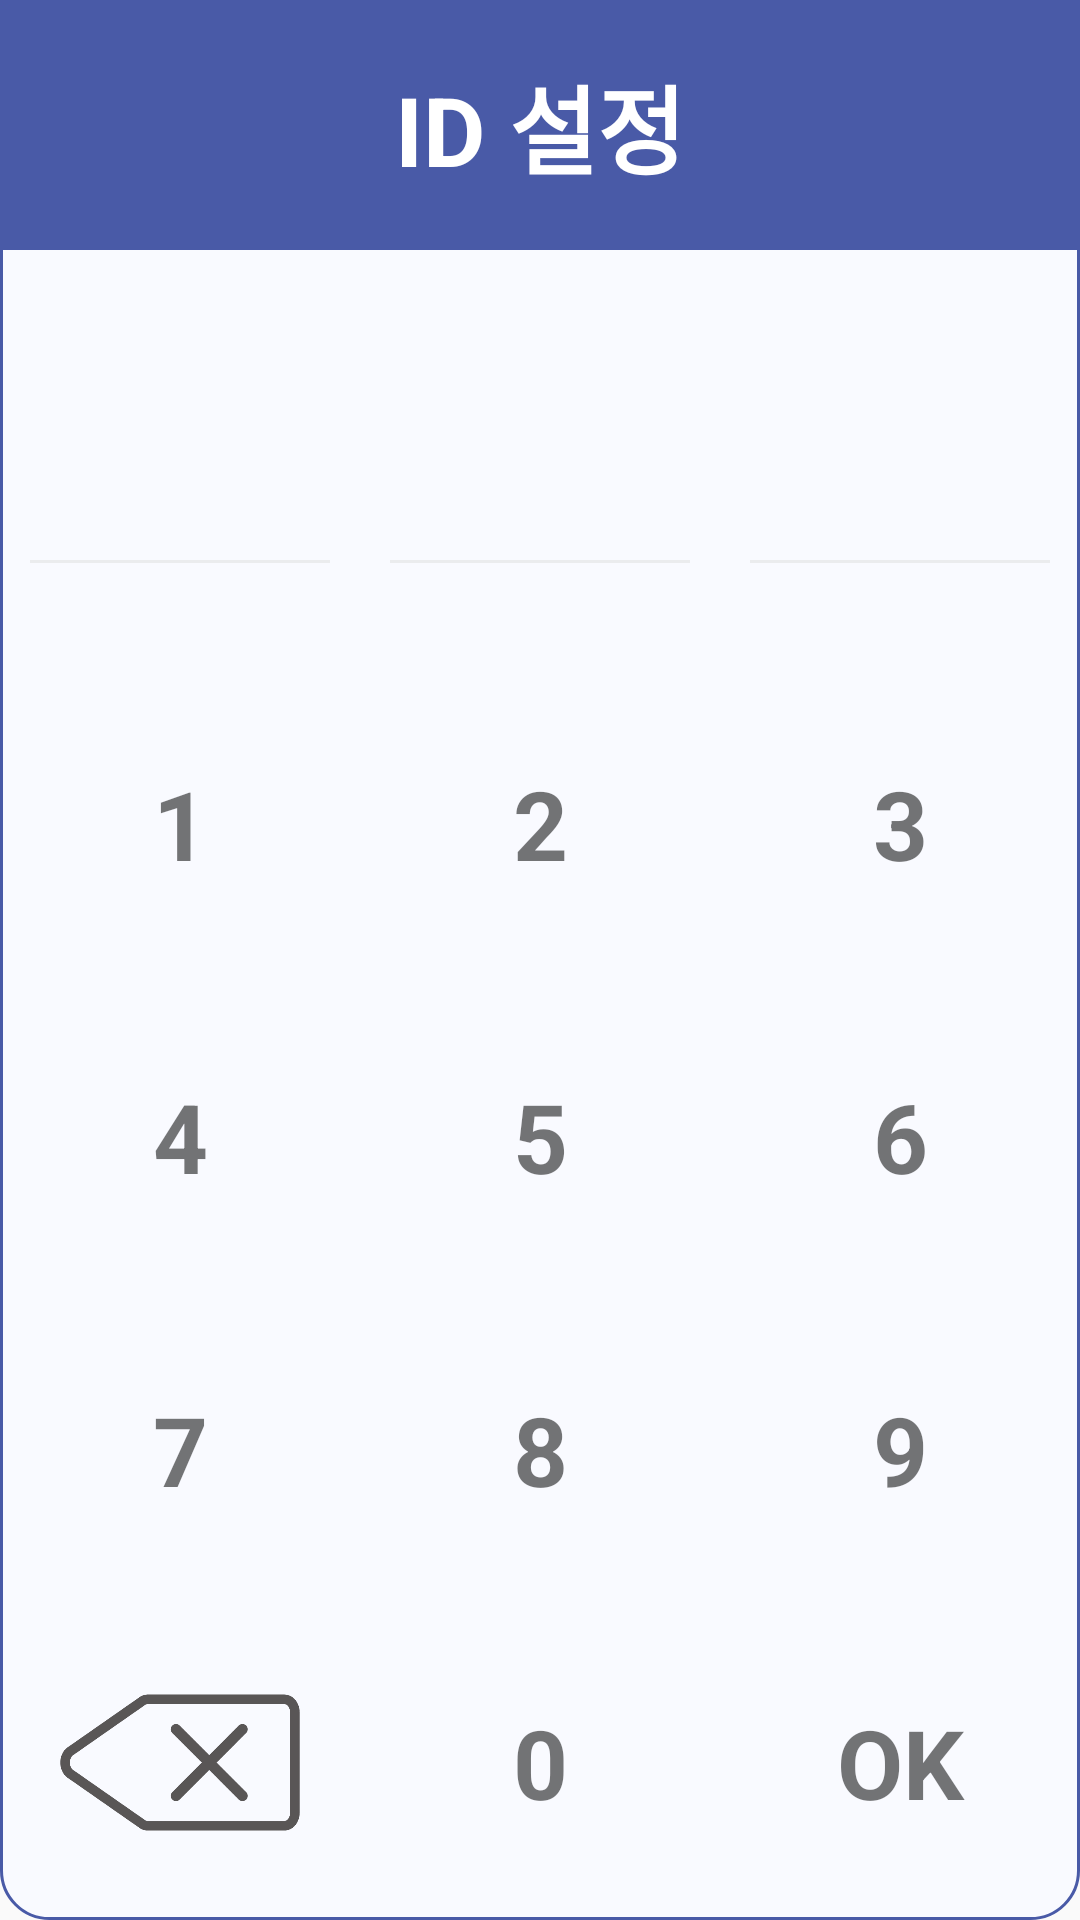

Named icons in this screenshot (1080*1920) and their centers, (x=x, y=y):
backpress: (x=180, y=1762)
